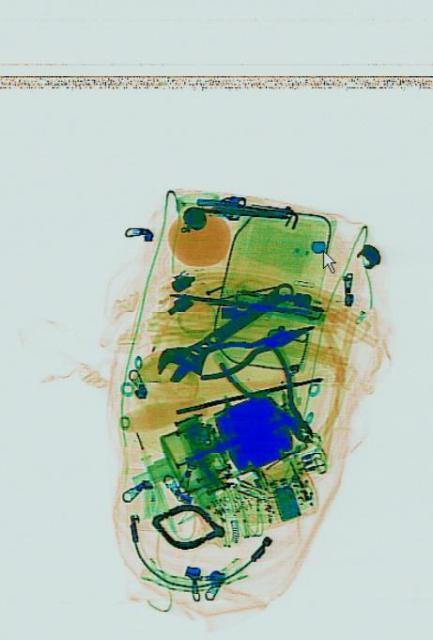Pliers: (216, 316, 327, 466), (193, 310, 316, 382)
Wrench: (152, 264, 297, 398)
